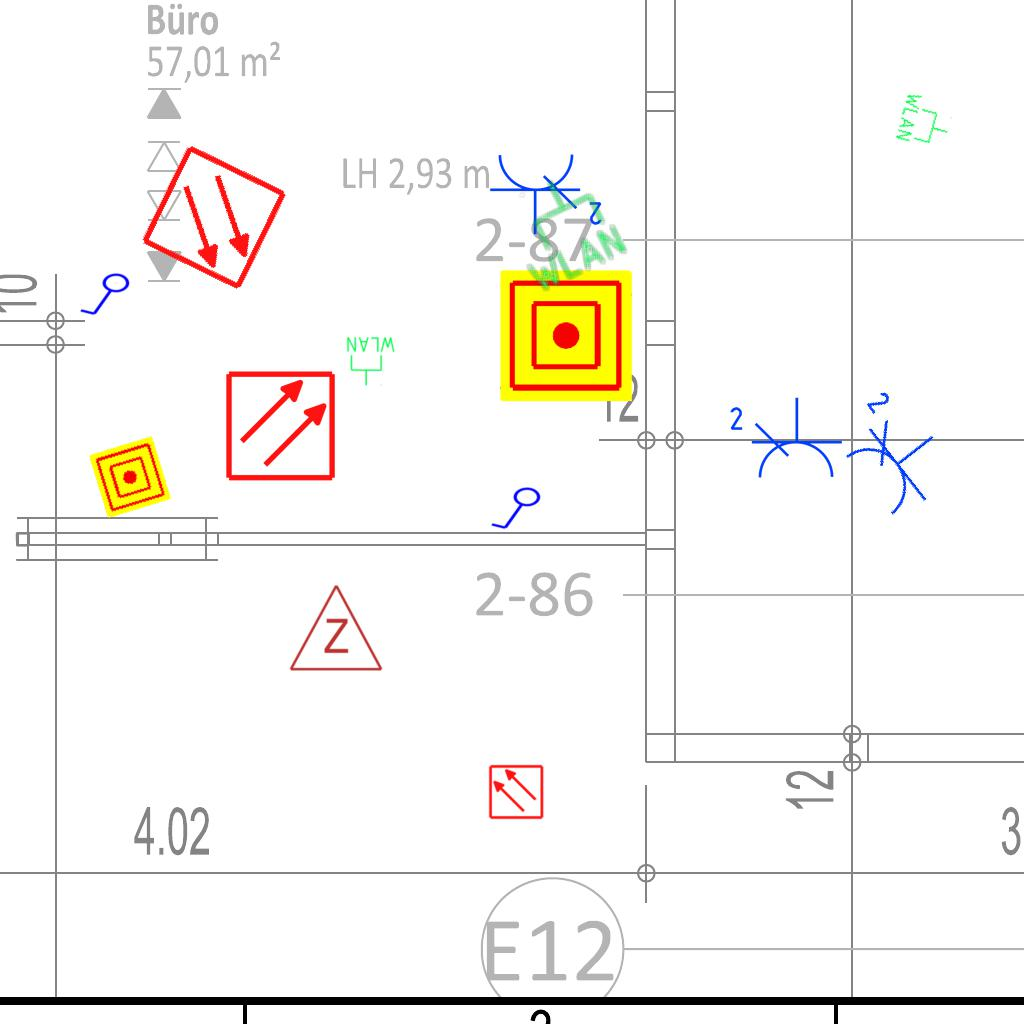Ausschalter: (79, 272, 135, 320), (490, 486, 546, 534)
NAM-Nichtautomatischer_Melder: (500, 270, 632, 402), (88, 435, 172, 519)
RMO_Rauchmelder_optischer: (138, 141, 291, 294), (224, 369, 337, 482), (488, 764, 544, 820)
Schukosteckdose_mehrfach: (819, 377, 963, 528), (723, 396, 844, 484), (488, 148, 609, 236)
WLAN: (492, 159, 632, 300), (893, 89, 957, 153), (345, 335, 397, 387)
Zimmersignalleuchte: (286, 578, 384, 678)
